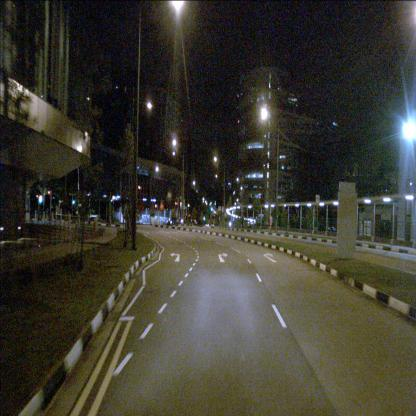vehicle-car: (89, 214, 101, 227), (178, 216, 192, 225), (167, 218, 179, 226)
